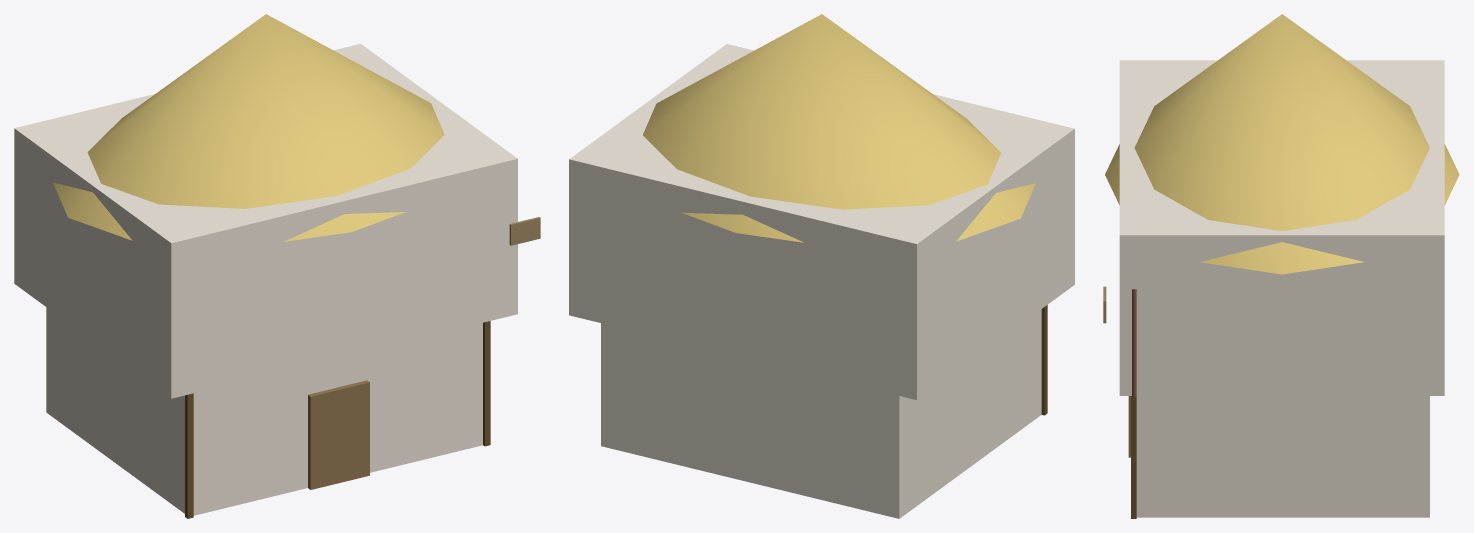
Rendered from env-med-tavern.glb.
3 renders of one model, left to right at view 1: azimuth 30°, elevation 25°; view 2: azimuth 150°, elevation 25°; view 3: azimuth 270°, elevation 25°, orthographic. The views are drawn at different scales.
Size of the model in its own units: 8 by 8 by 6.03.
